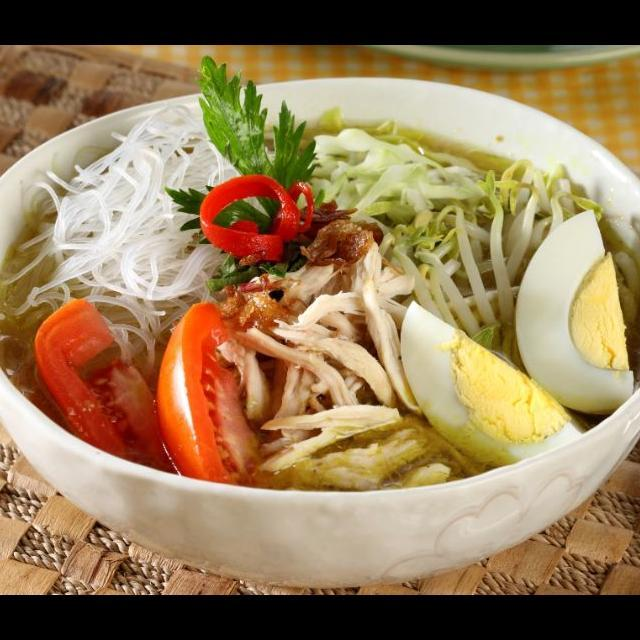Soto: (0, 60, 639, 491)
